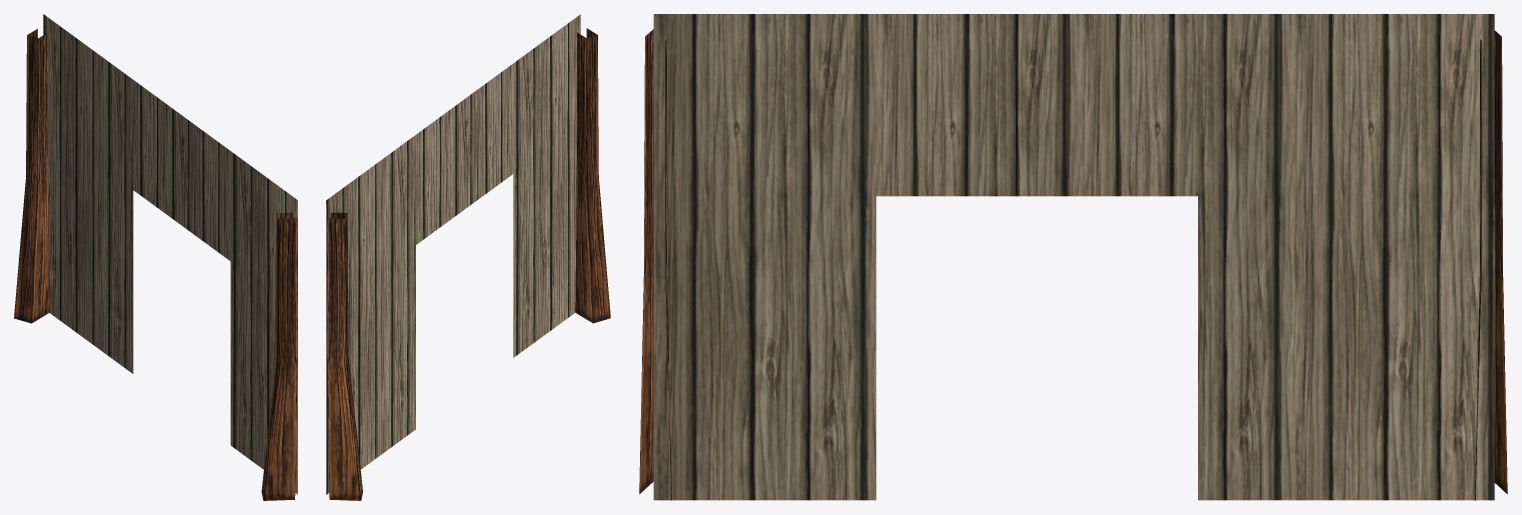
Rendered from LAKETOWN_WAREHOUSE2_PS_WH2_ENTWALL37373__GX.fbx.
3 renders of one model, left to right at view 1: azimuth 30°, elevation 25°; view 2: azimuth 150°, elevation 25°; view 3: azimuth 270°, elevation 25°, orthographic. The views are drawn at different scales.
Parts seen in each view (by area): view 1: LAKETOWN_WAREHOUSE2_PS_WH2_ENTWALL37373__GX; view 2: LAKETOWN_WAREHOUSE2_PS_WH2_ENTWALL37373__GX; view 3: LAKETOWN_WAREHOUSE2_PS_WH2_ENTWALL37373__GX.
Part boxes in pixels (box(x1,y1,x2,y2)): LAKETOWN_WAREHOUSE2_PS_WH2_ENTWALL37373__GX: box(14, 14, 297, 500); LAKETOWN_WAREHOUSE2_PS_WH2_ENTWALL37373__GX: box(326, 14, 610, 500); LAKETOWN_WAREHOUSE2_PS_WH2_ENTWALL37373__GX: box(639, 14, 1507, 500).
Bounding box in the file's own units: 6330 × 52184 × 84419.
Materials: 2 (2 with a texture image).
